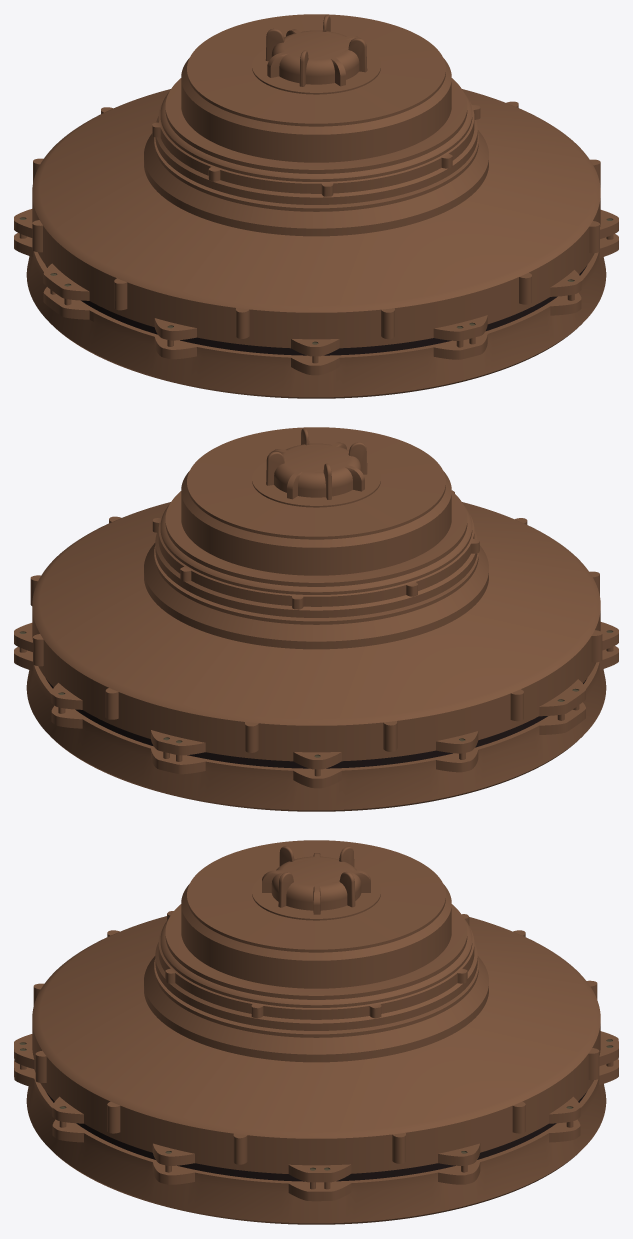
File: pignone-mod43.glb
The picture shows the model from 3 angles, top to bottom: view 1: azimuth 30°, elevation 25°; view 2: azimuth 150°, elevation 25°; view 3: azimuth 270°, elevation 25°; orthographic projection.
Visible parts, largest first — view 1: Cylinder; view 2: Cylinder; view 3: Cylinder.
Part boxes in pixels (box(x1,y1,x2,y2)): Cylinder: box(14, 14, 618, 398); Cylinder: box(14, 427, 618, 811); Cylinder: box(14, 840, 618, 1224).
Size of the model in its own units: 33.19 by 14.82 by 33.19.
3 materials, 2 textured.
